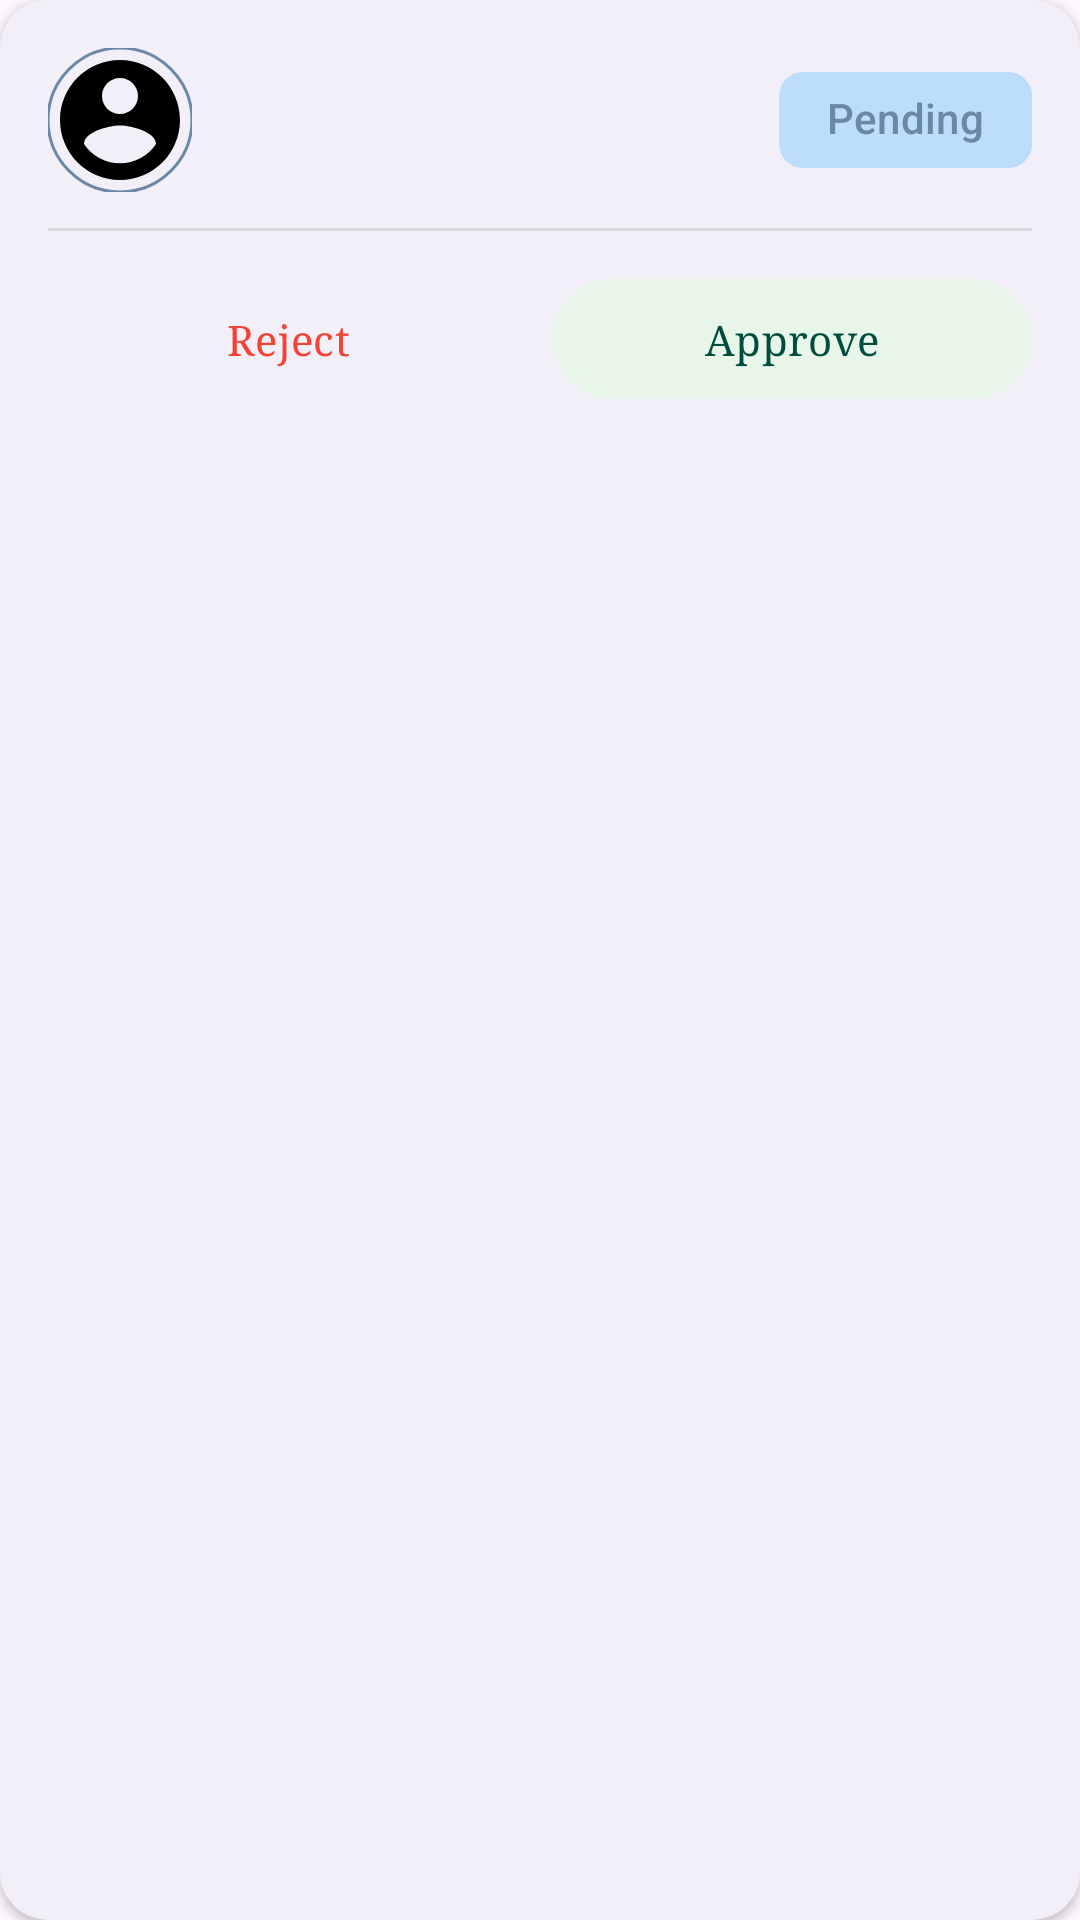

Icons on this 1080x1920 Android screen, each with the point to tap as (x,y):
person: (120,120)
